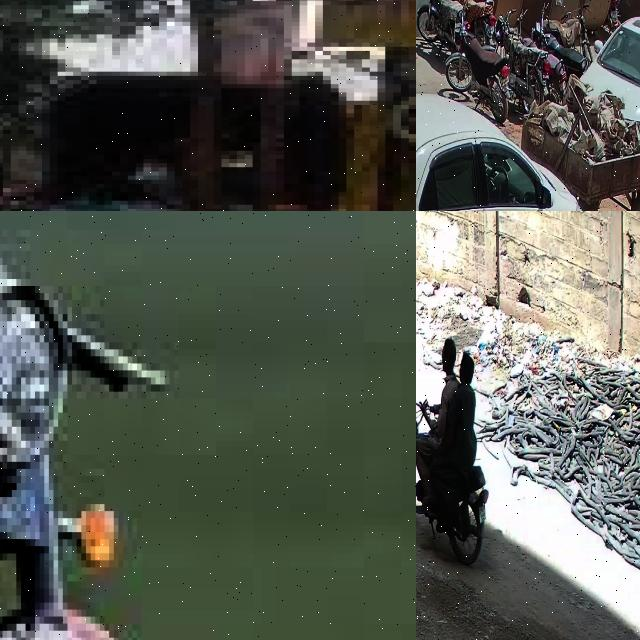bike: (0, 211, 160, 640), (416, 411, 487, 564), (446, 8, 514, 123), (495, 8, 550, 115), (516, 9, 567, 105), (532, 1, 588, 80), (417, 0, 467, 60), (542, 4, 592, 64), (449, 0, 495, 45)
car: (416, 93, 587, 211), (579, 17, 640, 169)
